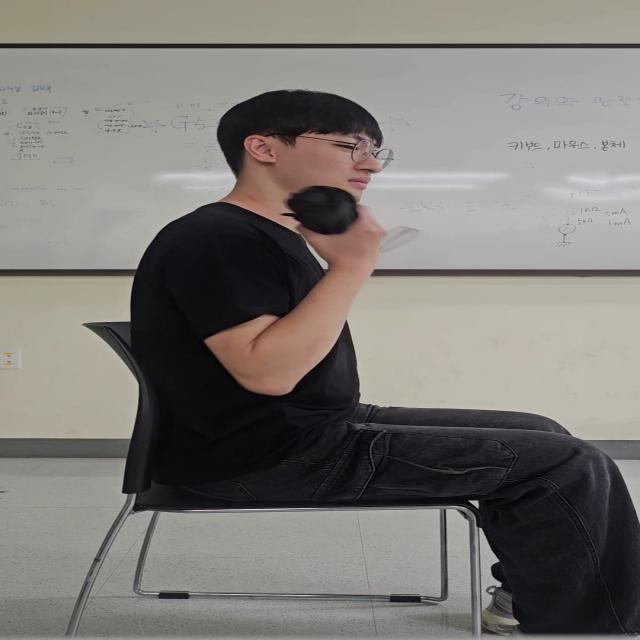curl: (131, 197, 392, 406)
